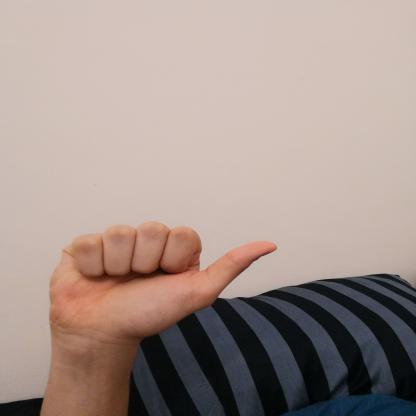DAD: (34, 212, 288, 357)
